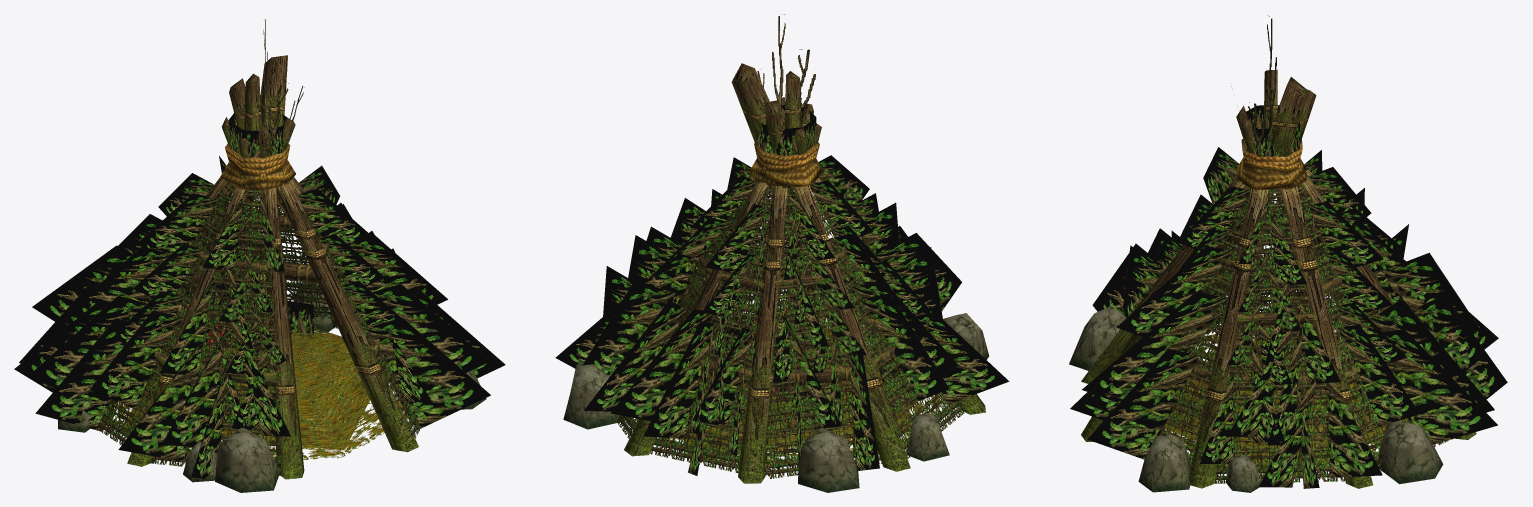
File: cj_monhouse01_b.glb
3 renders of one model, left to right at view 1: azimuth 30°, elevation 25°; view 2: azimuth 150°, elevation 25°; view 3: azimuth 270°, elevation 25°, orthographic. The views are drawn at different scales.
Visible parts, largest first — view 1: cj_monhouse_b_leaf, cj_monhouse_b_bigcolumn, cj_monhouse_b_wall, cj_monhouse_b_ground, cj_monhouse_b_stone, cj_monhouse_b_ground2, cj_monhouse_b_line, cj_monhouse_b_alpha1; view 2: cj_monhouse_b_leaf, cj_monhouse_b_wall, cj_monhouse_b_bigcolumn, cj_monhouse_b_stone, cj_monhouse_b_line, cj_monhouse_b_ground, cj_monhouse_b_ground2, cj_monhouse_b_alpha1; view 3: cj_monhouse_b_leaf, cj_monhouse_b_bigcolumn, cj_monhouse_b_wall, cj_monhouse_b_stone, cj_monhouse_b_line, cj_monhouse_b_ground, cj_monhouse_b_ground2, cj_monhouse_b_alpha1.
Part boxes in pixels (x1,y1,x2,y2): cj_monhouse_b_leaf: [14, 113, 505, 478]; cj_monhouse_b_bigcolumn: [127, 55, 418, 479]; cj_monhouse_b_wall: [96, 182, 421, 475]; cj_monhouse_b_ground: [105, 327, 408, 459]; cj_monhouse_b_stone: [58, 282, 486, 492]; cj_monhouse_b_ground2: [124, 331, 381, 450]; cj_monhouse_b_line: [220, 143, 295, 190]; cj_monhouse_b_alpha1: [263, 19, 304, 141]; cj_monhouse_b_leaf: [555, 105, 1009, 475]; cj_monhouse_b_wall: [617, 180, 964, 478]; cj_monhouse_b_bigcolumn: [624, 63, 985, 483]; cj_monhouse_b_stone: [563, 313, 988, 492]; cj_monhouse_b_line: [748, 142, 824, 188]; cj_monhouse_b_ground: [624, 321, 942, 466]; cj_monhouse_b_ground2: [683, 330, 911, 458]; cj_monhouse_b_alpha1: [757, 14, 815, 113]; cj_monhouse_b_leaf: [1070, 105, 1507, 488]; cj_monhouse_b_bigcolumn: [1081, 69, 1476, 488]; cj_monhouse_b_wall: [1135, 176, 1452, 483]; cj_monhouse_b_stone: [1069, 294, 1443, 492]; cj_monhouse_b_line: [1236, 139, 1307, 189]; cj_monhouse_b_ground: [1160, 325, 1408, 474]; cj_monhouse_b_ground2: [1164, 335, 1407, 473]; cj_monhouse_b_alpha1: [1231, 15, 1276, 147].
Bounding box in the file's own units: 12.16 × 11.01 × 11.46.
10 materials, 10 textured.
